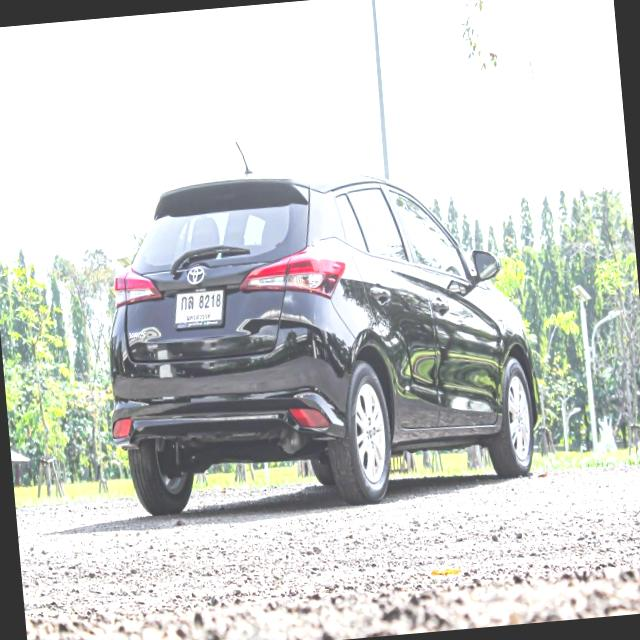license_plate: (167, 278, 236, 340)
